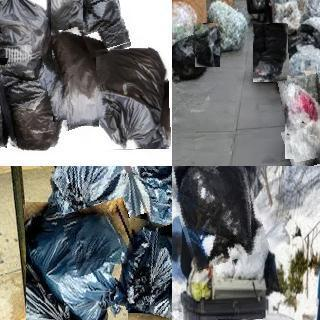Garbage: (24, 200, 126, 320), (51, 166, 161, 271), (172, 166, 263, 266), (91, 48, 170, 150), (43, 28, 105, 129), (3, 58, 67, 152), (118, 220, 172, 316), (0, 0, 51, 81), (281, 74, 320, 160), (74, 0, 126, 56), (136, 166, 172, 232), (253, 24, 289, 82), (172, 36, 206, 82), (37, 0, 83, 30), (195, 23, 220, 67), (0, 56, 11, 149)
